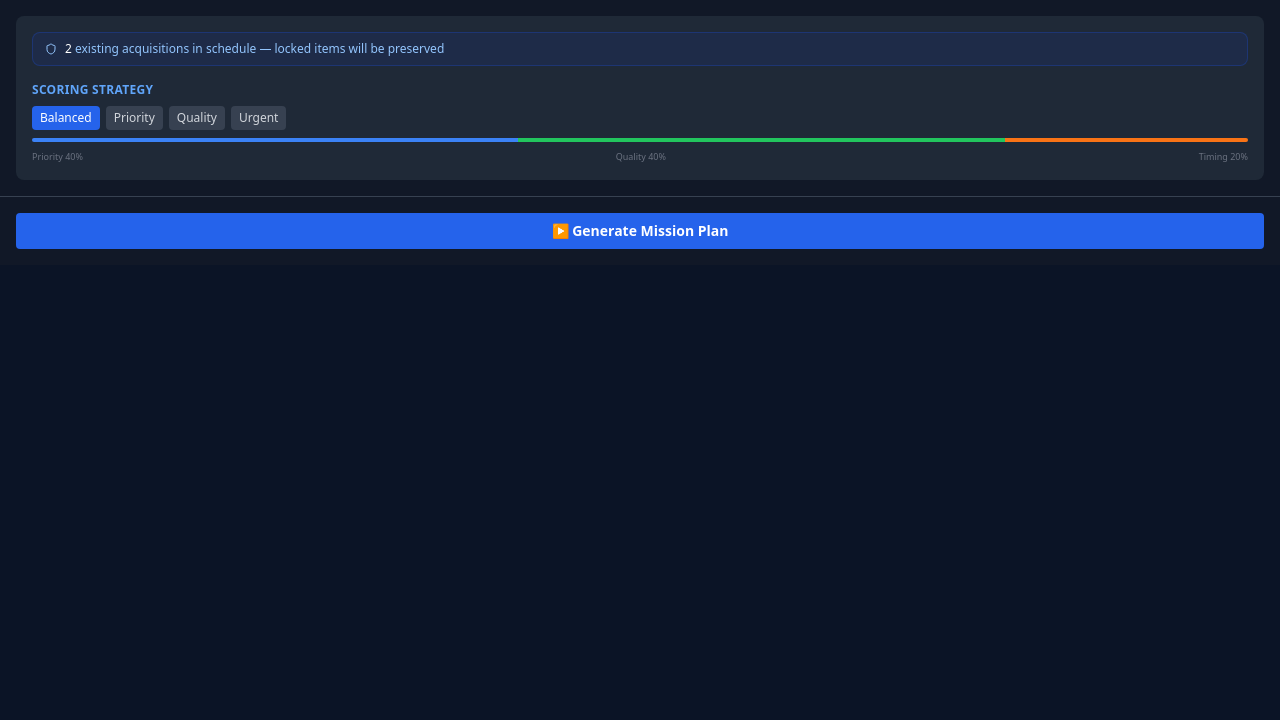
Test: MissionPlanning › blocks apply review when incremental planning returns no feasible acquisitions
The width and height of the screenshot is (1280, 720).
What coordinates should you click on to do the following:
click the button "▶ Generate Mission Plan"
I would click on:
 (640, 230)
Its box is x1=16 y1=212 x2=1264 y2=248.
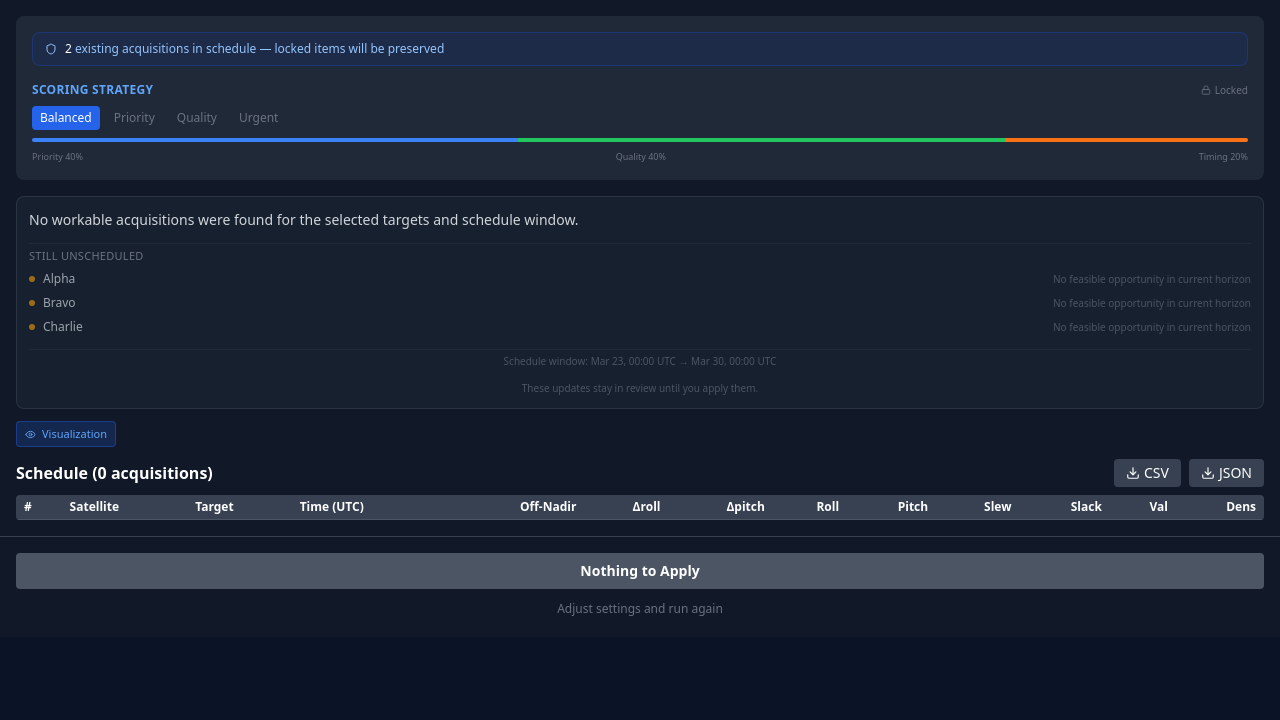
expect the text "No workable acquisitions were found for the selected targets and schedule window." is shown: met, box x1=29 y1=210 x2=579 y2=228
expect the button "Nothing to Apply" is disabled: met, box x1=16 y1=553 x2=1264 y2=589
